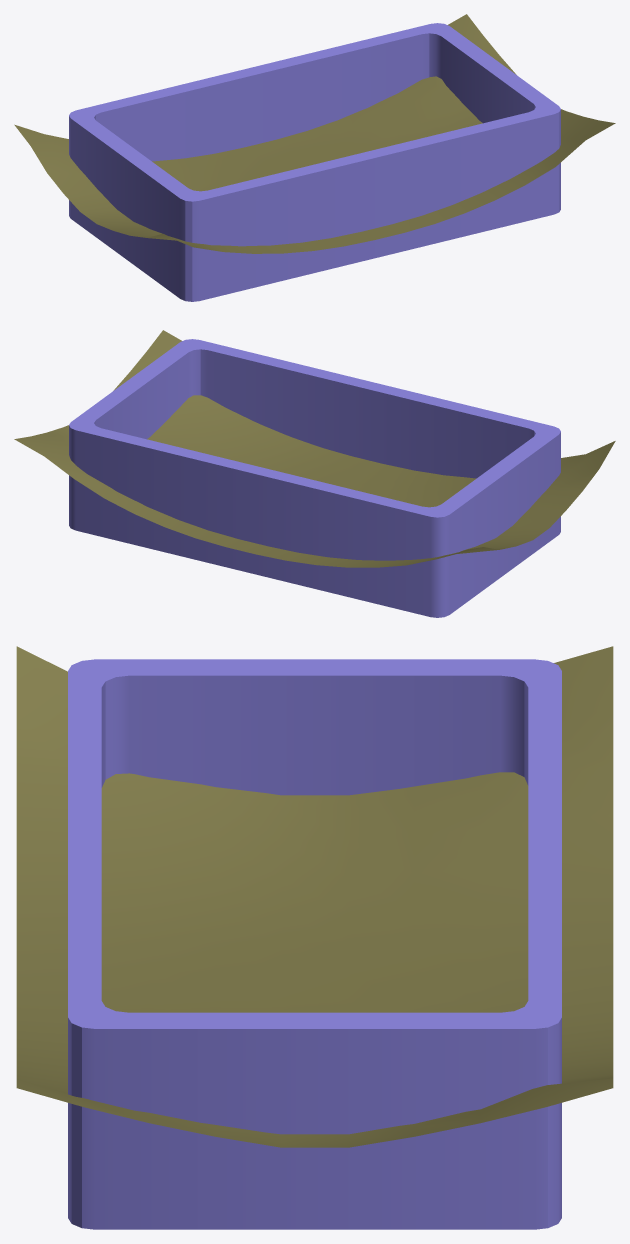
File: Fusbolfield.fbx
The picture shows the model from 3 angles, top to bottom: view 1: azimuth 30°, elevation 25°; view 2: azimuth 150°, elevation 25°; view 3: azimuth 270°, elevation 25°; orthographic projection. The views are drawn at different scales.
Parts seen in each view (by area): view 1: Cube, Plane; view 2: Cube, Plane; view 3: Cube, Plane.
Boxes of the visible parts, x1,y1,x2,y2 form: Cube: (69, 23, 560, 301); Plane: (14, 14, 615, 253); Cube: (69, 339, 560, 617); Plane: (14, 330, 615, 567); Cube: (68, 659, 561, 1229); Plane: (16, 646, 613, 1147).
Size of the model in its own units: 944 by 200 by 539.
